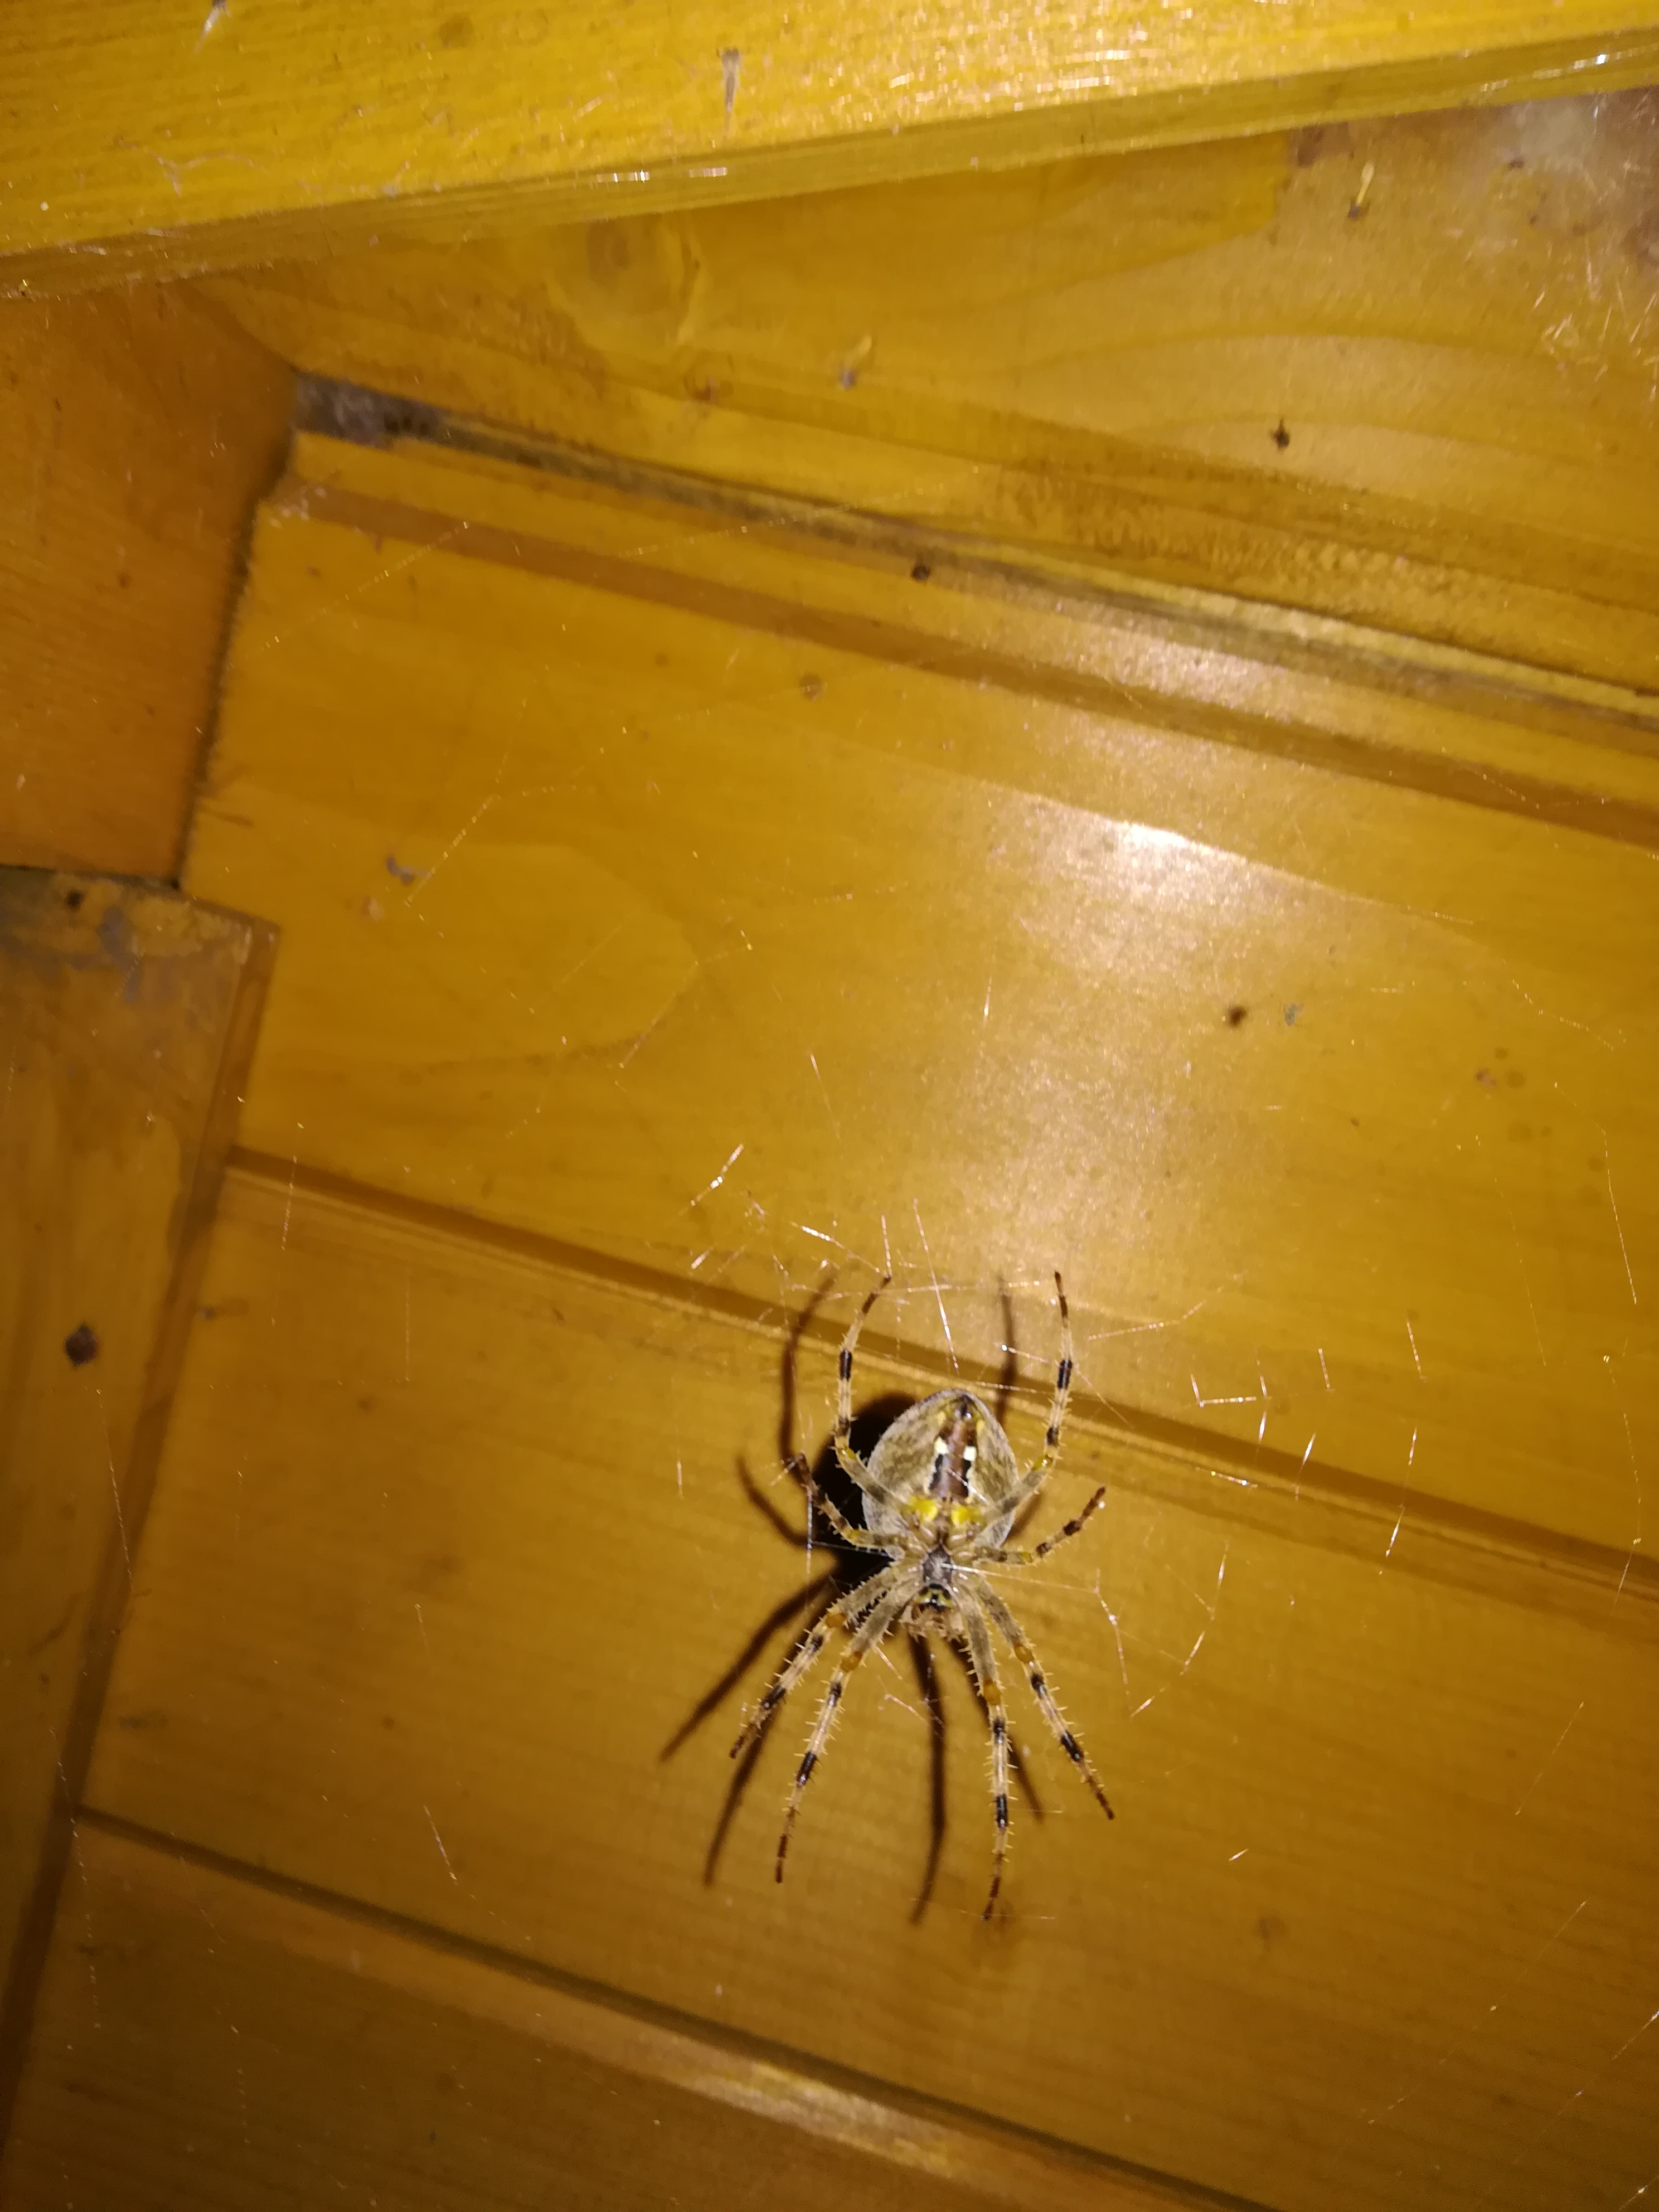spider: (671, 1226, 1211, 1961)
